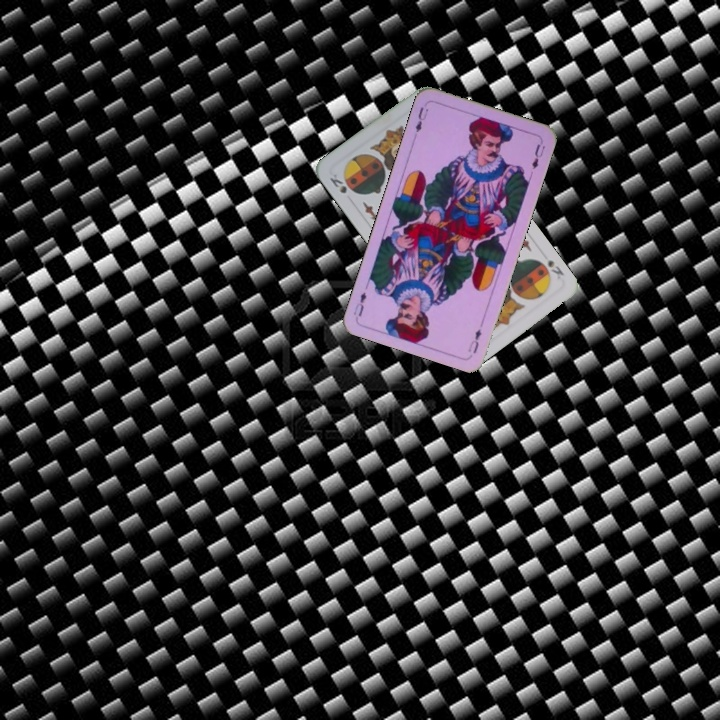EU: (411, 103, 431, 135), (464, 325, 484, 356)
SK: (325, 170, 349, 196), (543, 255, 567, 281)
